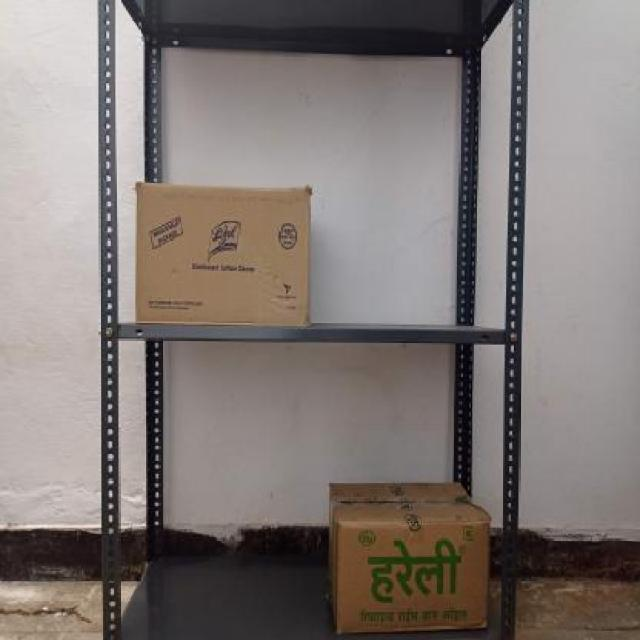box: (134, 182, 312, 326), (336, 518, 492, 632)
